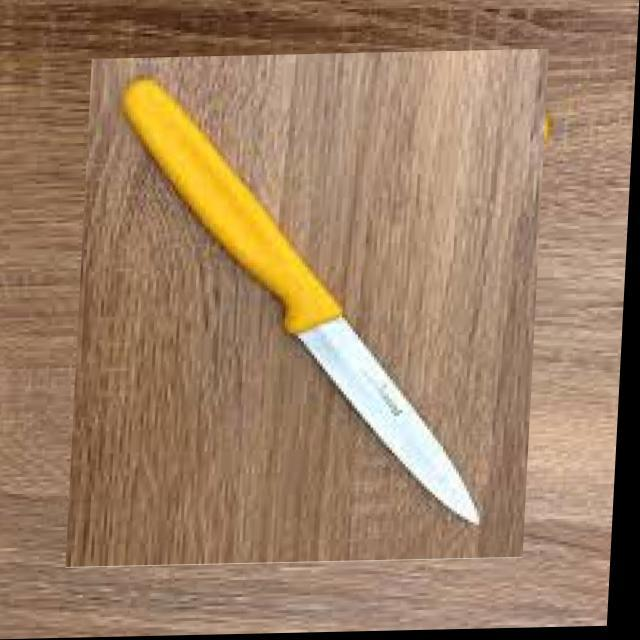knife: (59, 63, 562, 556)
